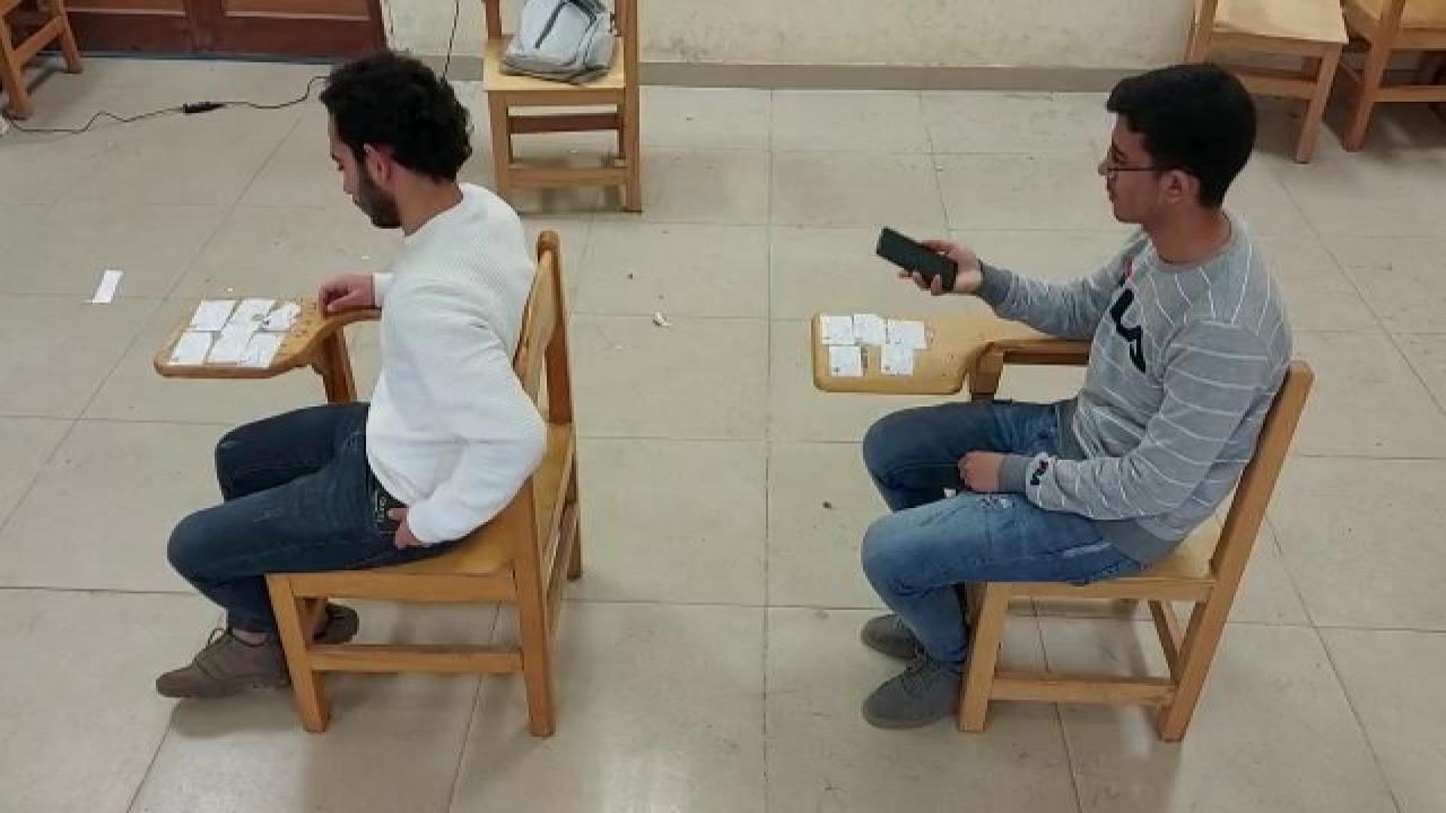phone: (872, 226, 967, 288)
